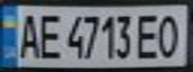1: (100, 11, 118, 58)
3: (115, 11, 136, 60)
4: (63, 11, 84, 60)
7: (81, 11, 100, 60)
A: (12, 10, 42, 60)
E: (33, 9, 63, 60), (136, 10, 163, 60)
O: (154, 10, 184, 60)
